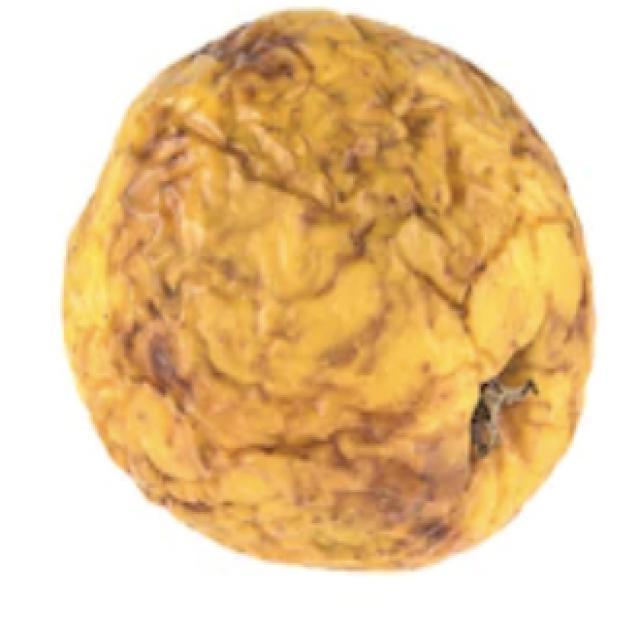Rotten: (80, 19, 587, 558)
